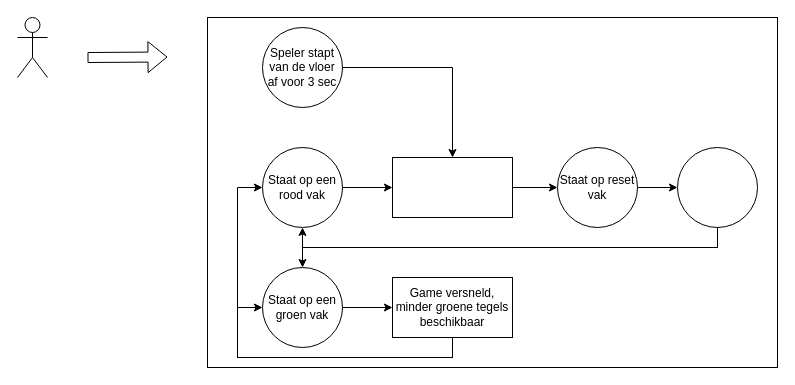
Some shapes in this 795 by 385 pixel diagram are drawn without their labels. Here are the shapes that lost their labels. From the top down, the box of each, then its label:
(16, 16, 48, 78): User
(392, 156, 512, 218): Game end
(676, 146, 758, 228): Reset
